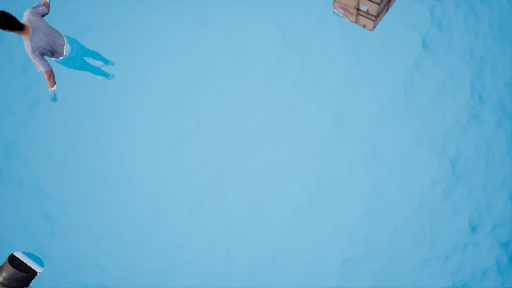person: (2, 2, 126, 93)
